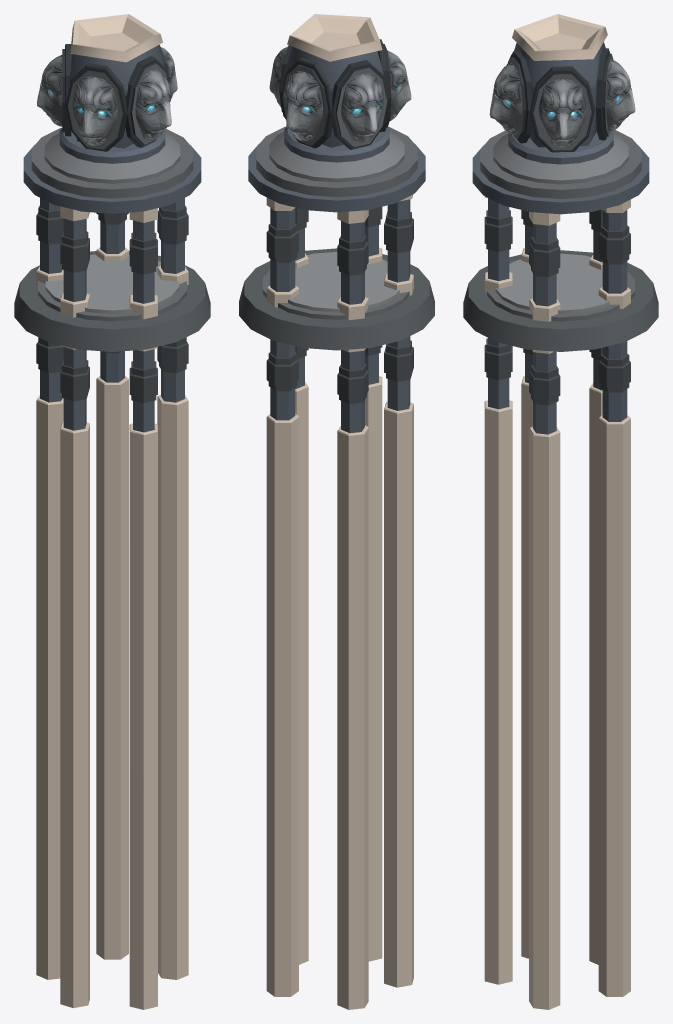
File: Bigpillar.FBX
The picture shows the model from 3 angles, left to right: view 1: azimuth 30°, elevation 25°; view 2: azimuth 150°, elevation 25°; view 3: azimuth 270°, elevation 25°; orthographic projection.
Visible parts, largest first — view 1: Object001; view 2: Object001; view 3: Object001.
Part boxes in pixels (bbox=[...]): Object001: bbox=[14, 14, 210, 1009]; Object001: bbox=[239, 14, 434, 1009]; Object001: bbox=[463, 14, 658, 1009].
Bounding box in the file's own units: 395 × 2073 × 389.
